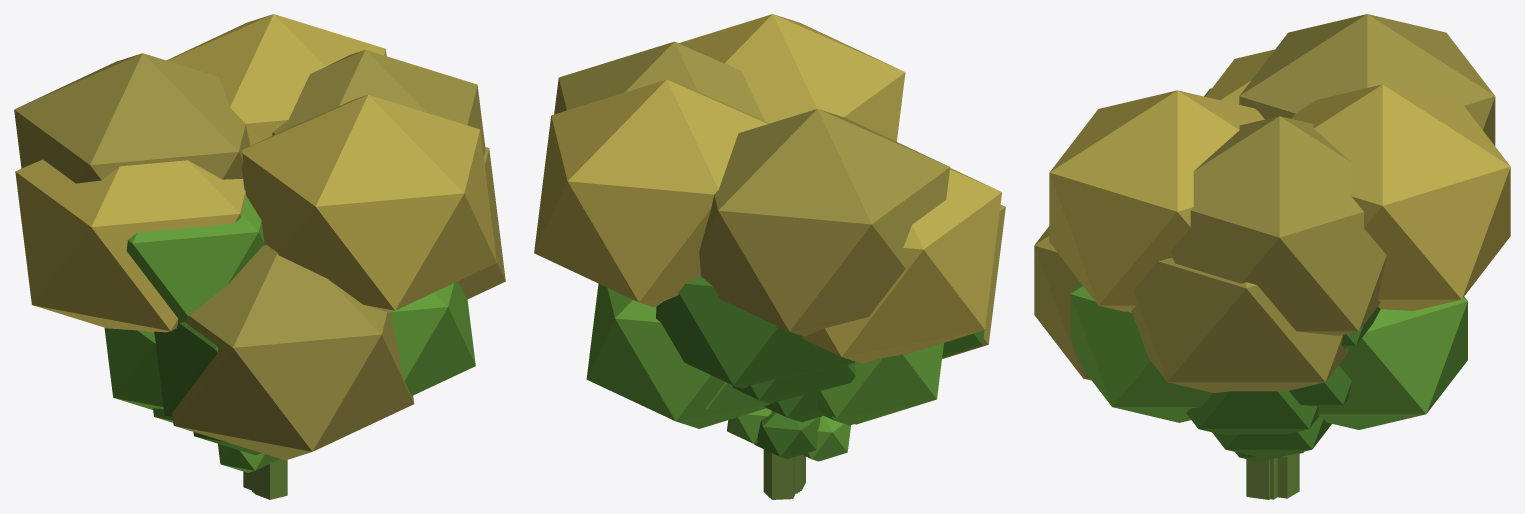
Rendered from Crop_Nut_Peanut.fbx.
3 renders of one model, left to right at view 1: azimuth 30°, elevation 25°; view 2: azimuth 150°, elevation 25°; view 3: azimuth 270°, elevation 25°, orthographic. The views are drawn at different scales.
Visible parts, largest first — view 1: Crop_Nut_Peanut__S4, Crop_Nut_Peanut__S3, Crop_Nut_Peanut__S5, Crop_Nut_Peanut__S1; view 2: Crop_Nut_Peanut__S4, Crop_Nut_Peanut__S3, Crop_Nut_Peanut__S5, Crop_Nut_Peanut__S1, Crop_Nut_Peanut__S2; view 3: Crop_Nut_Peanut__S4, Crop_Nut_Peanut__S3, Crop_Nut_Peanut__S5, Crop_Nut_Peanut__S2.
Boxes of the visible parts, left/top/right/bottom form: Crop_Nut_Peanut__S4: left=14, top=14, right=505, bottom=490; Crop_Nut_Peanut__S3: left=126, top=196, right=475, bottom=417; Crop_Nut_Peanut__S5: left=104, top=327, right=253, bottom=491; Crop_Nut_Peanut__S1: left=218, top=444, right=287, bottom=499; Crop_Nut_Peanut__S4: left=534, top=14, right=1005, bottom=499; Crop_Nut_Peanut__S3: left=586, top=276, right=984, bottom=428; Crop_Nut_Peanut__S5: left=705, top=343, right=943, bottom=493; Crop_Nut_Peanut__S1: left=727, top=408, right=850, bottom=490; Crop_Nut_Peanut__S2: left=764, top=392, right=853, bottom=492; Crop_Nut_Peanut__S4: left=1034, top=14, right=1510, bottom=498; Crop_Nut_Peanut__S3: left=1070, top=88, right=1467, bottom=499; Crop_Nut_Peanut__S5: left=1186, top=365, right=1351, bottom=499; Crop_Nut_Peanut__S2: left=1212, top=418, right=1331, bottom=498.
Bounding box in the file's own units: 0.144 × 0.135 × 0.1329.
